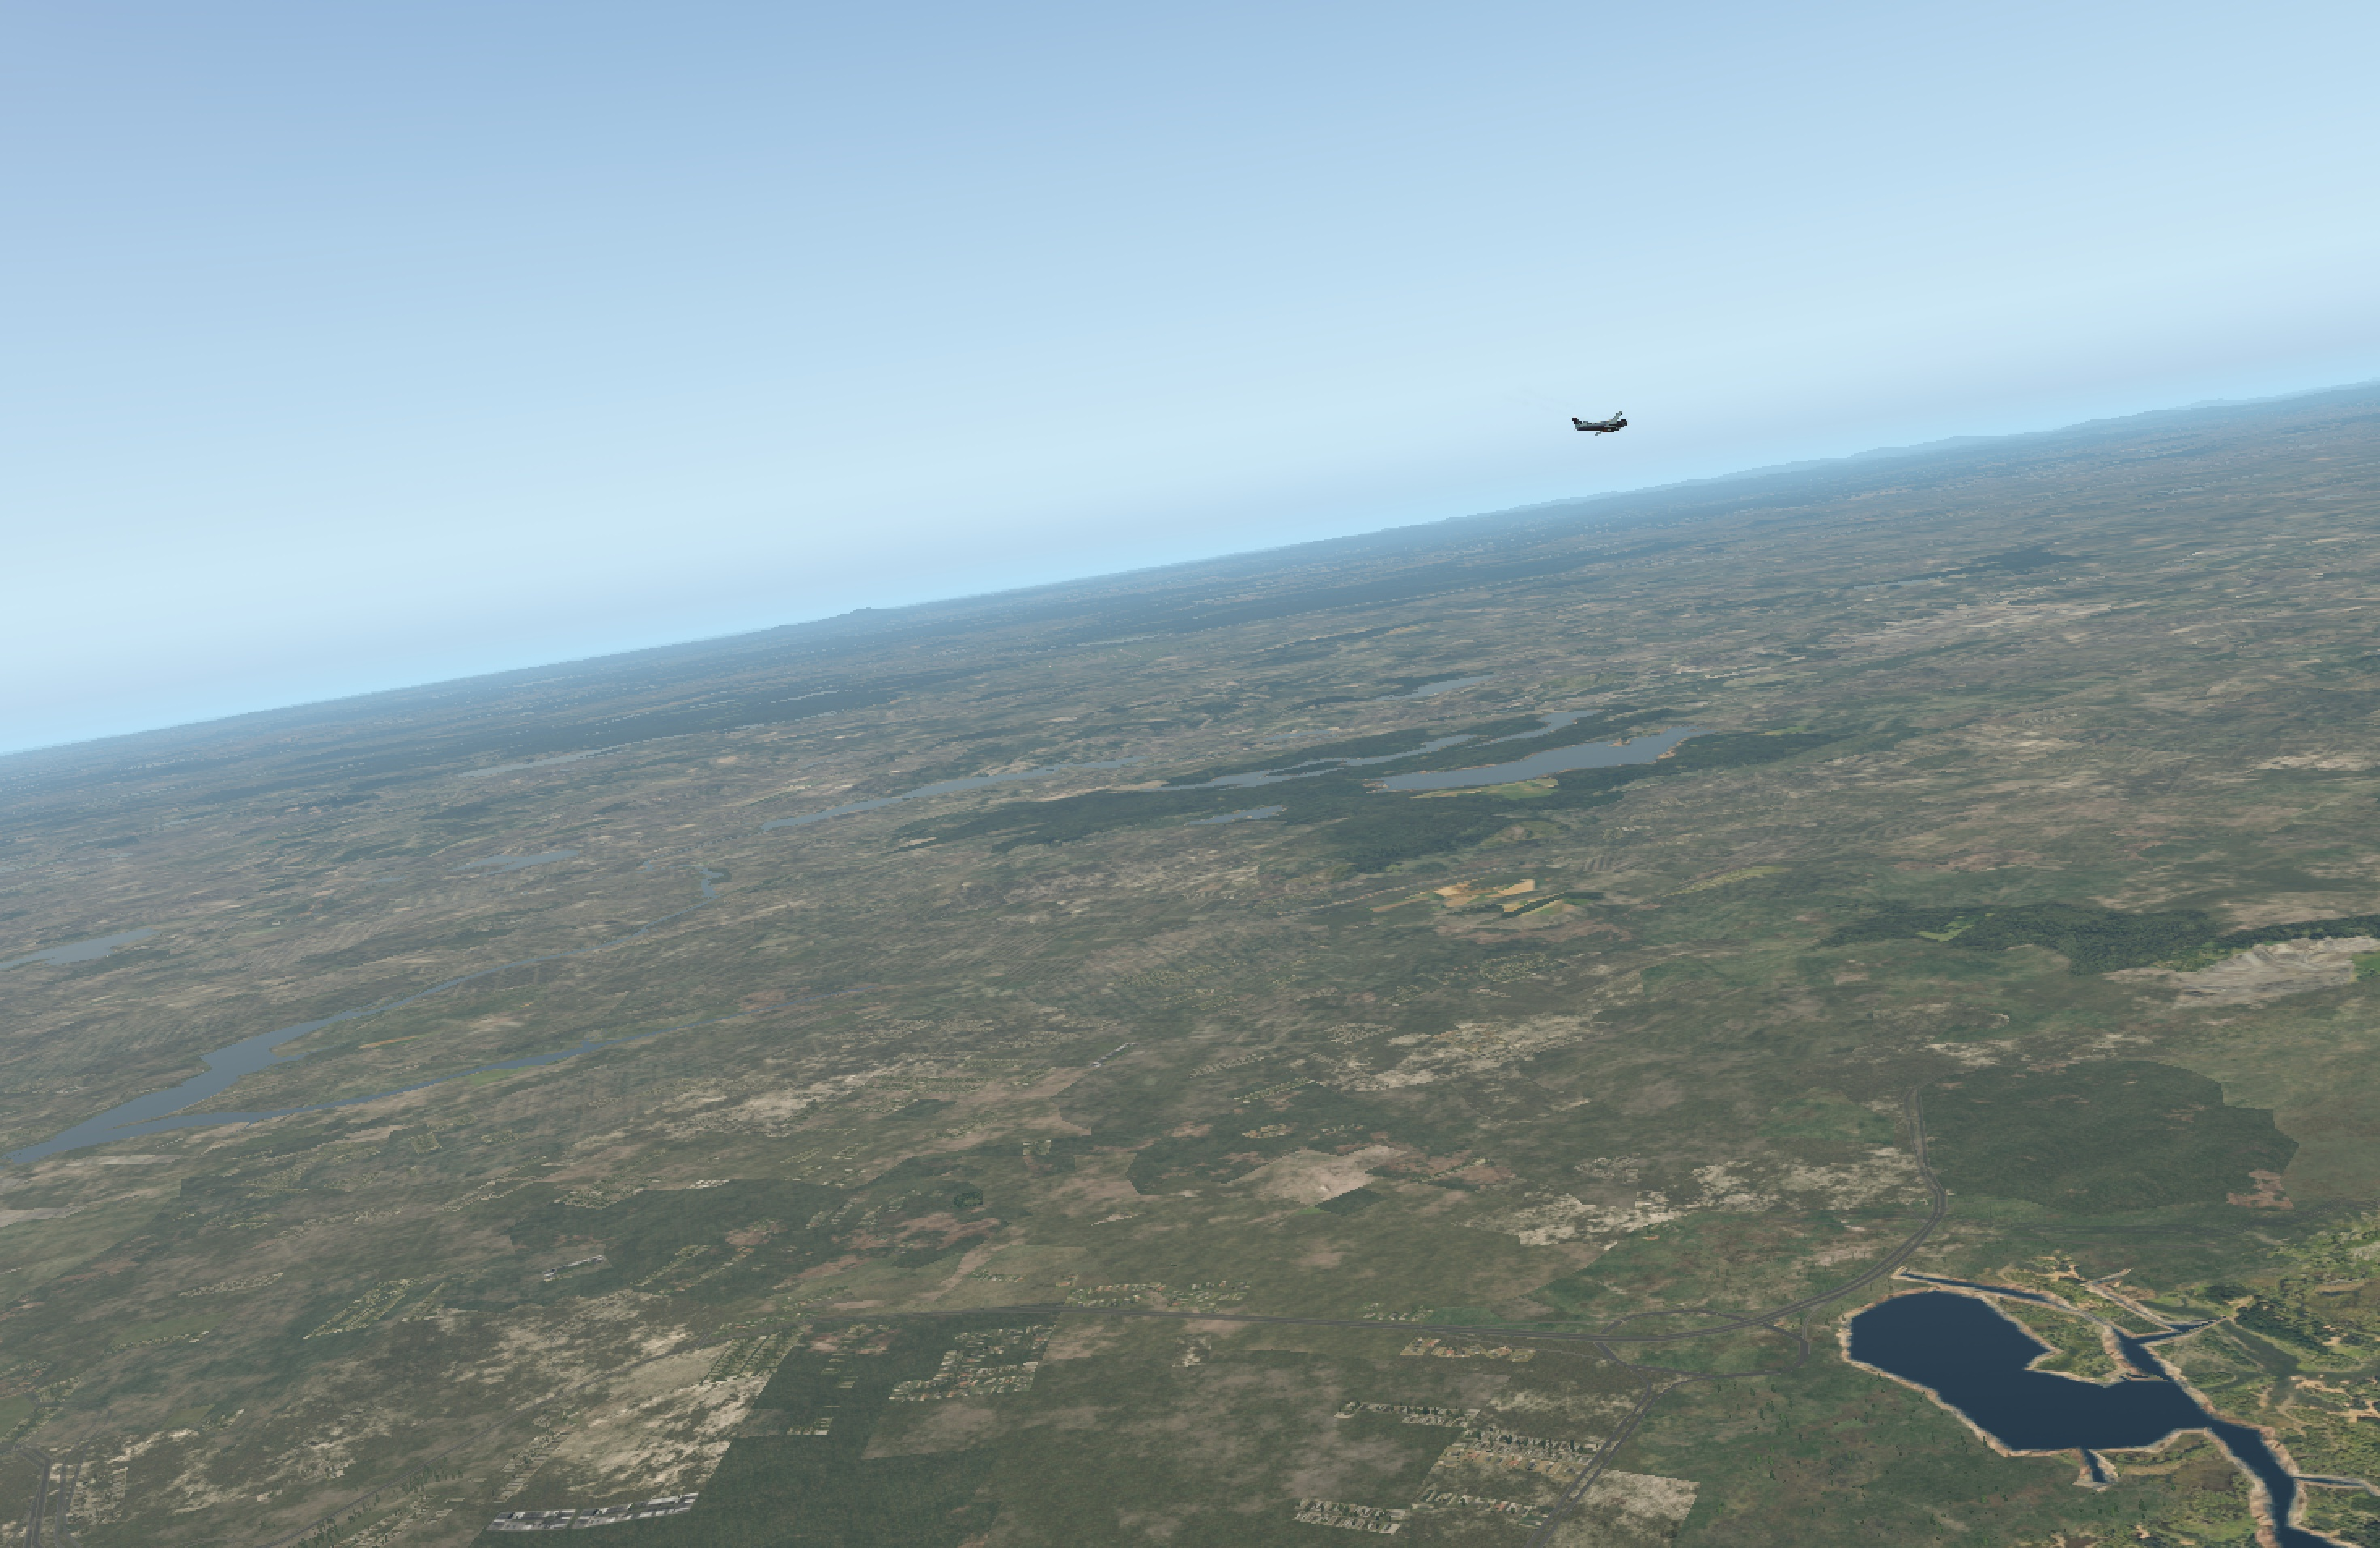aircraft: (1572, 413, 1651, 443)
